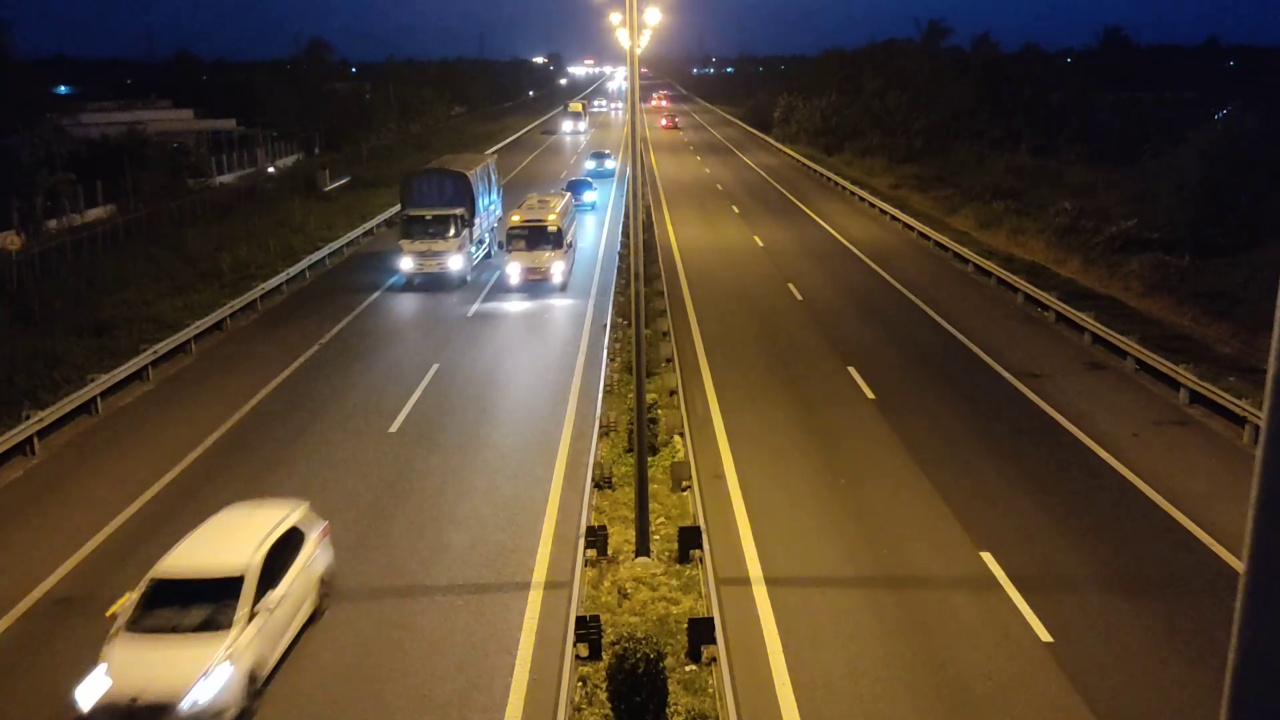bus: (495, 183, 580, 290)
car: (71, 495, 337, 719), (563, 177, 599, 209), (583, 150, 617, 176)
truck: (396, 151, 505, 289)
